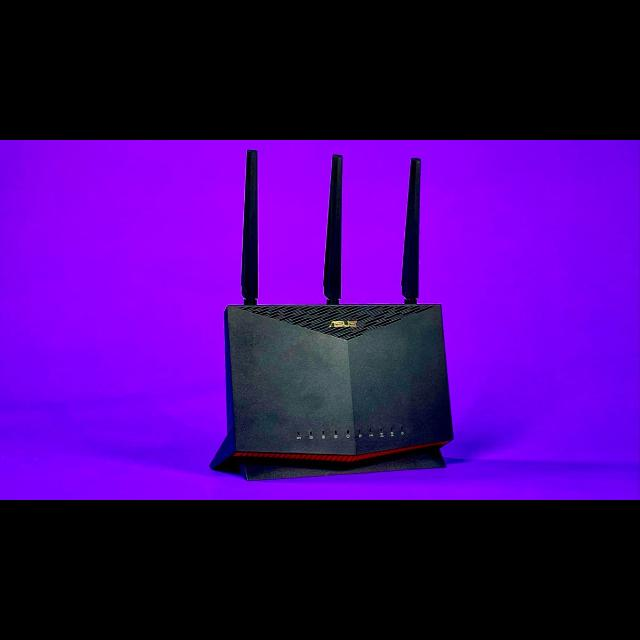Router: (211, 149, 455, 482)
